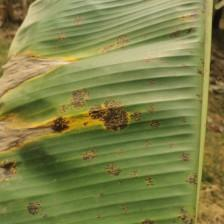pestalotiopsis: (0, 0, 212, 224)
